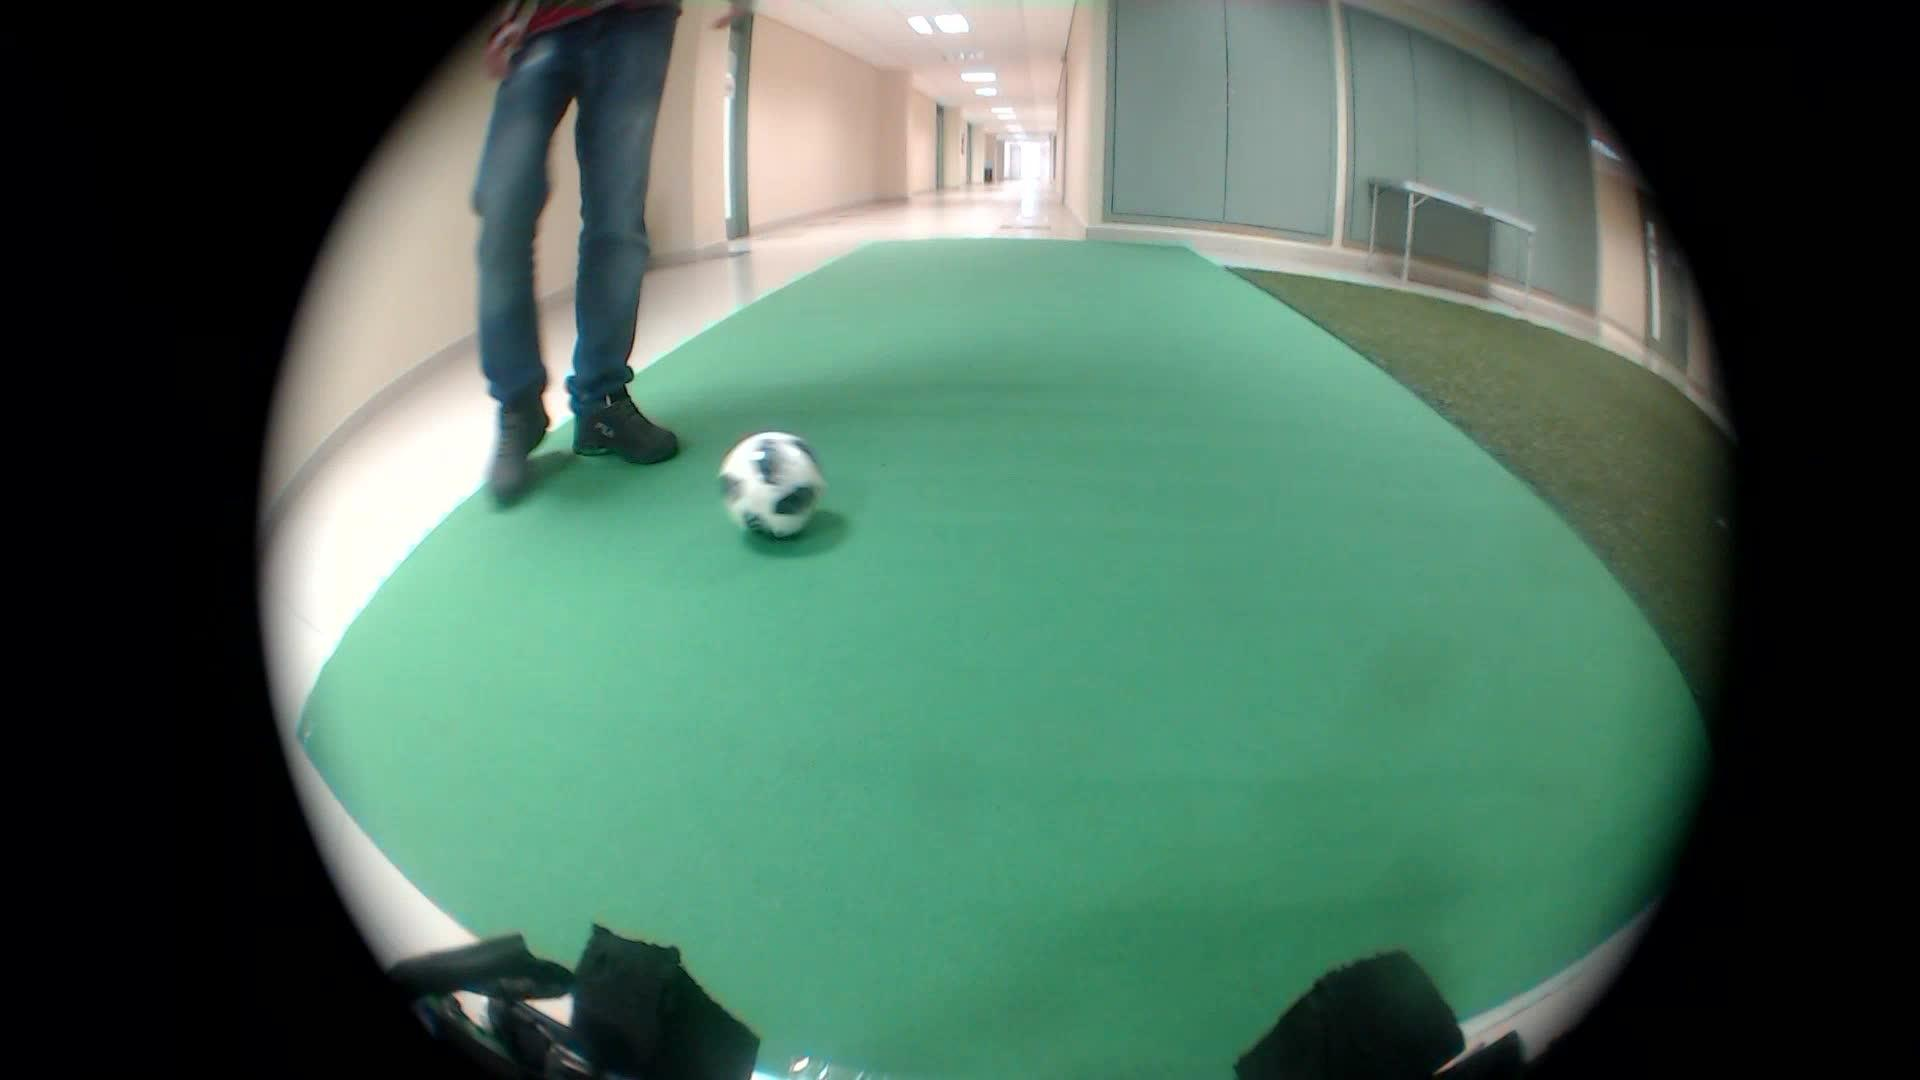ball: (709, 418, 837, 550)
